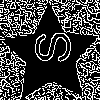S: (26, 30, 72, 65)
